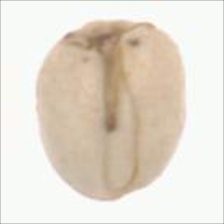L5: (92, 50, 142, 199), (57, 19, 159, 49)
L6: (35, 19, 188, 203)
